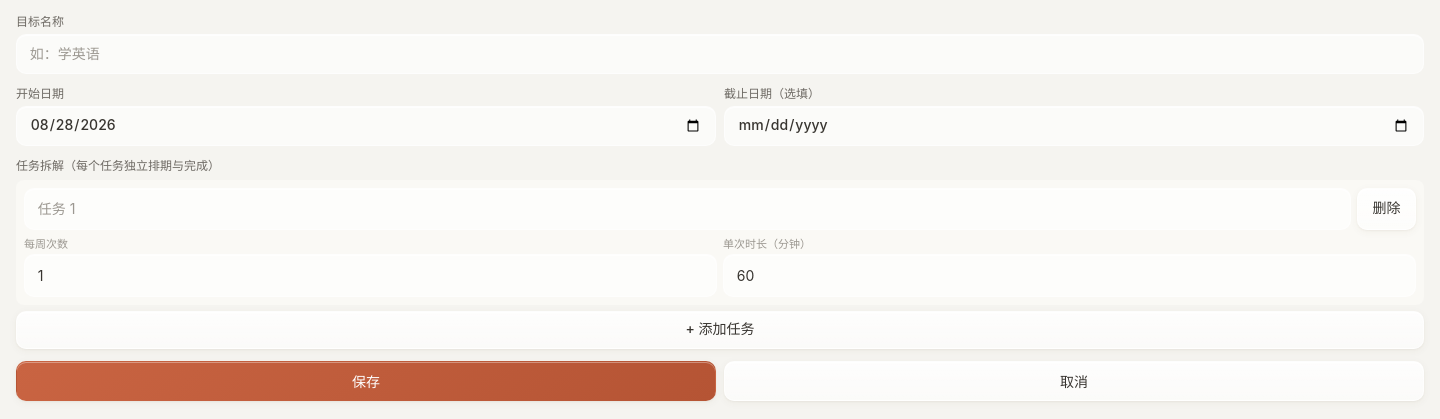
GoalForm › 校验：删除所有任务行后提示至少一个任务
Type "学英语" into the field labelled "目标名称".
click(720, 54); type("学英语")  # box x1=16 y1=34 x2=1424 y2=74
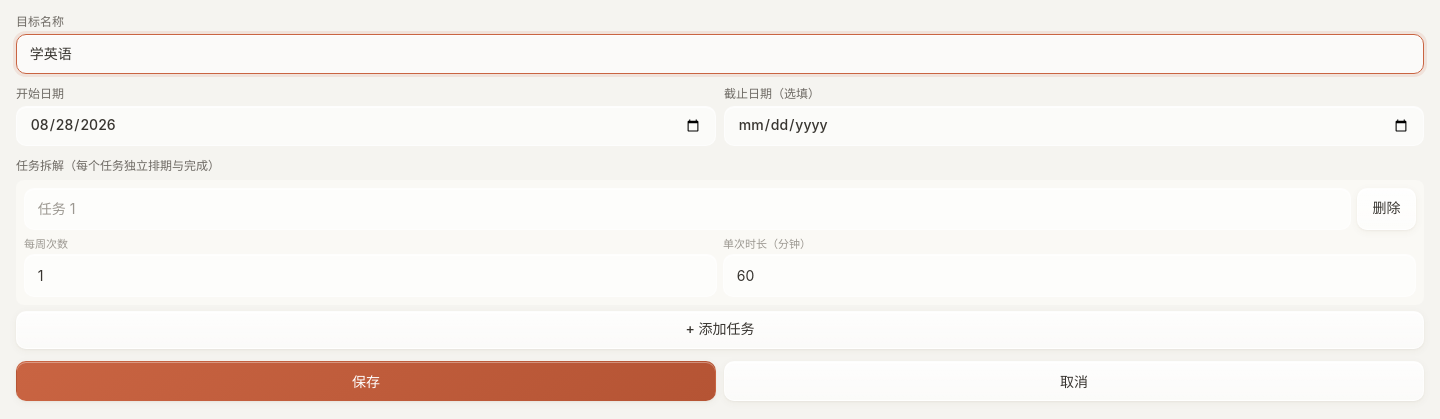
Click the button with aria-label "删除任务 1".
click(1387, 209)  # box x1=1357 y1=188 x2=1416 y2=230
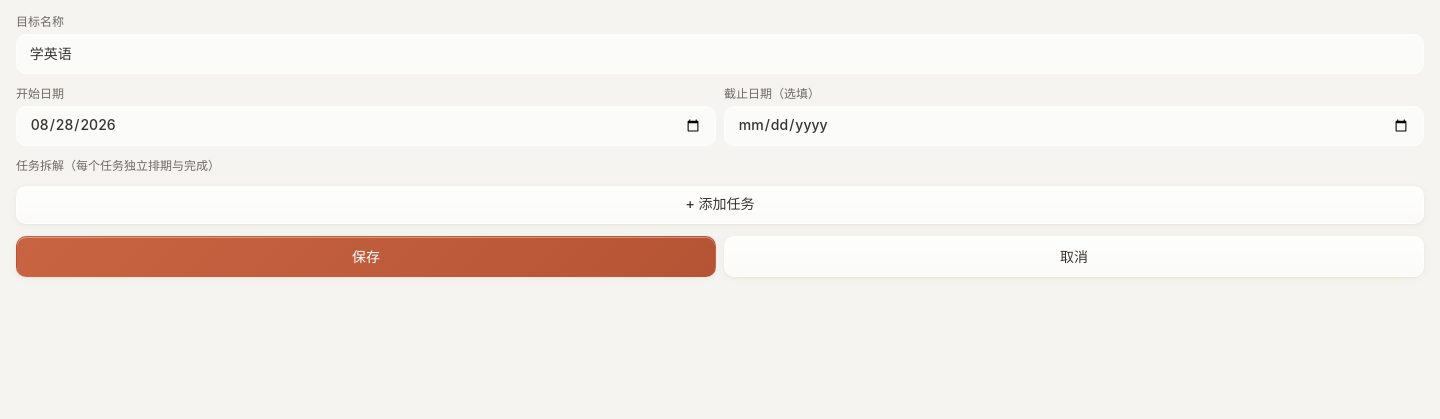
Click the button "保存".
click(366, 256)  # box x1=16 y1=236 x2=716 y2=276
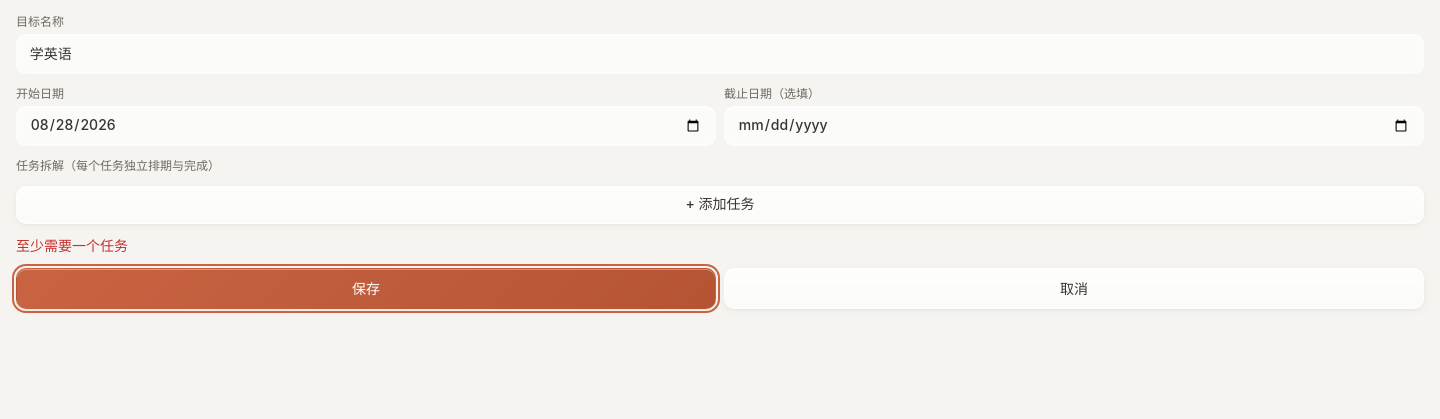
Result: the text with test id "goal-form-error" reads "至少需要一个任务" at x1=16 y1=237 x2=128 y2=254
